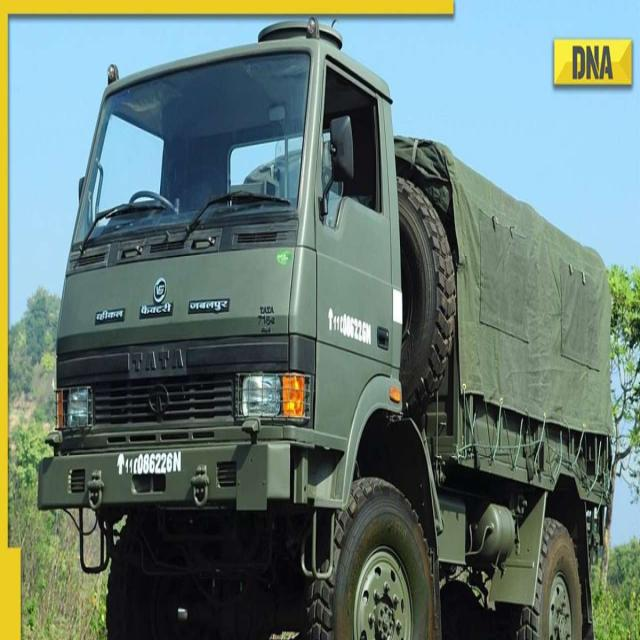truck: (38, 20, 611, 639)
